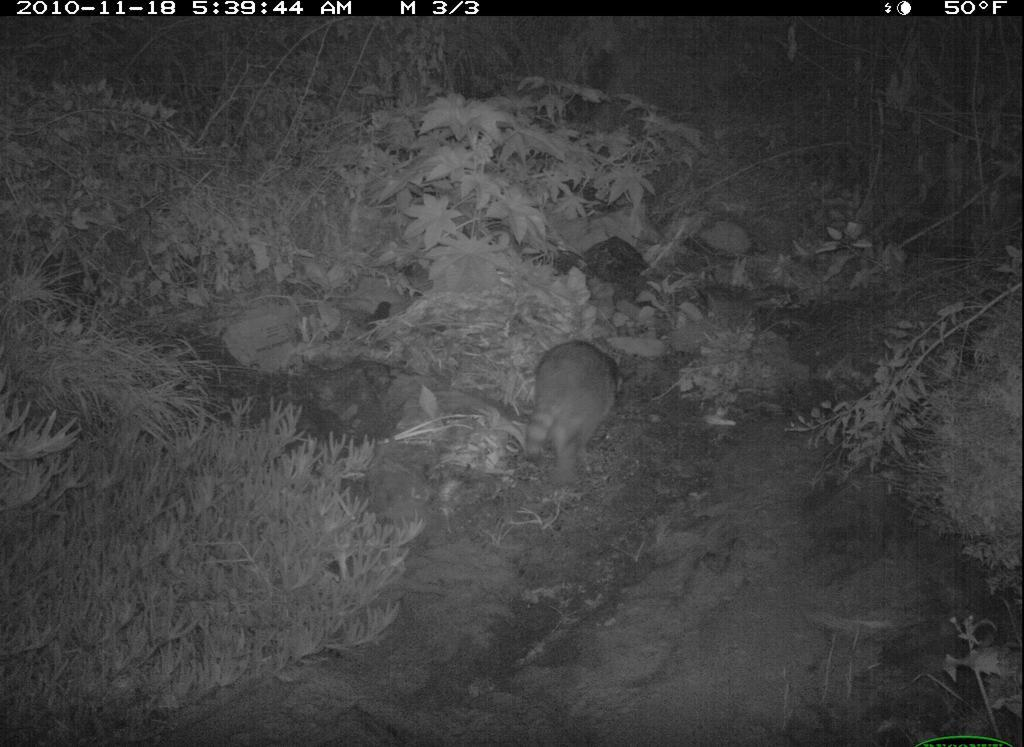raccoon: (516, 335, 632, 493)
